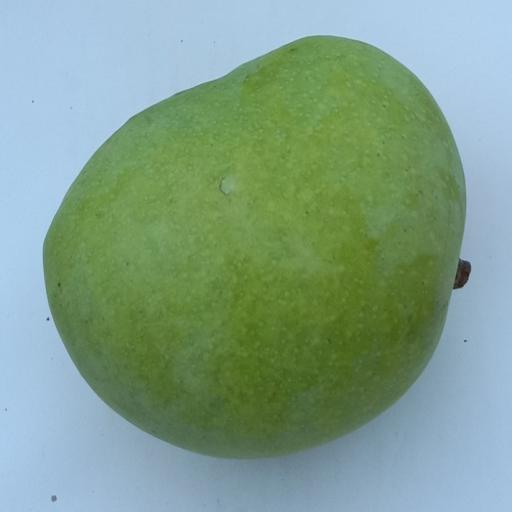mango-unripe: (27, 13, 496, 482)
